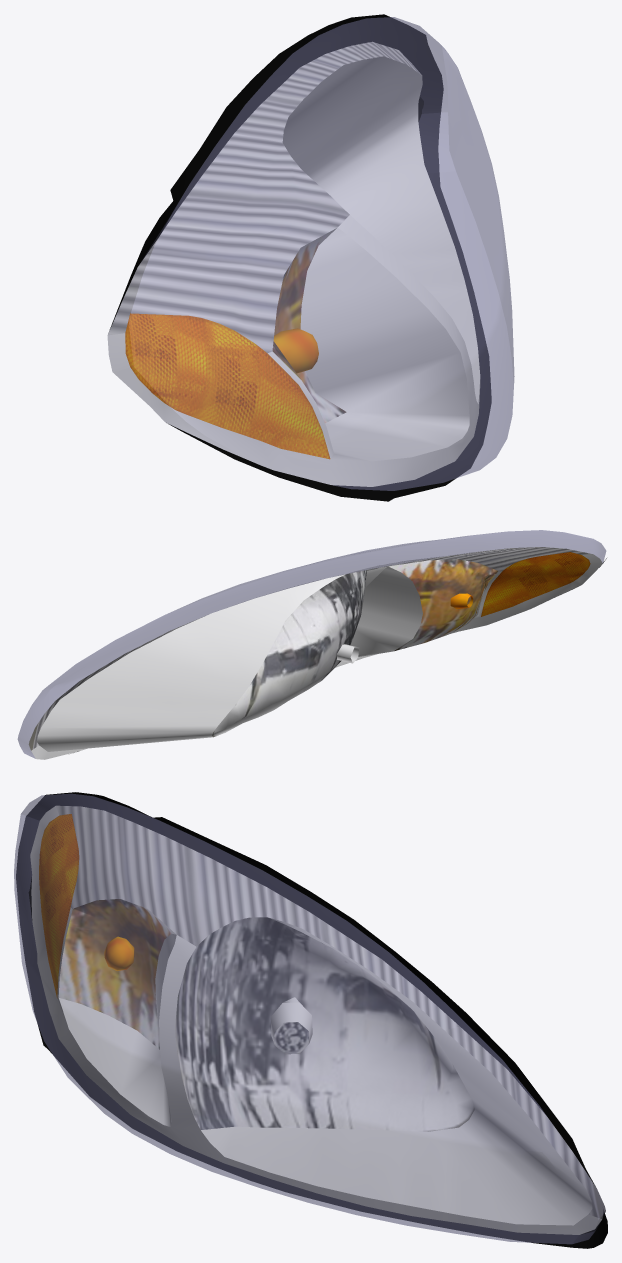
The picture shows the model from 3 angles, top to bottom: view 1: azimuth 30°, elevation 25°; view 2: azimuth 150°, elevation 25°; view 3: azimuth 270°, elevation 25°; orthographic projection. The views are drawn at different scales.
Visible parts, largest first — view 1: P353_20_061B_R_P353_20_061B_R_1_DTaSI, P353_20_061B_R_2_N_P353_20_061B_R, P353_20_061B_R_P353_20_061B_R_3_D; view 2: P353_20_061B_R_2_N_P353_20_061B_R, P353_20_061B_R_P353_20_061B_R_1_DTaSI; view 3: P353_20_061B_R_P353_20_061B_R_1_DTaSI, P353_20_061B_R_2_N_P353_20_061B_R, P353_20_061B_R_P353_20_061B_R_3_D.
Boxes of the visible parts, x1,y1,x2,y2 form: P353_20_061B_R_P353_20_061B_R_1_DTaSI: [107, 17, 514, 490]; P353_20_061B_R_2_N_P353_20_061B_R: [107, 42, 480, 486]; P353_20_061B_R_P353_20_061B_R_3_D: [109, 14, 491, 501]; P353_20_061B_R_2_N_P353_20_061B_R: [28, 547, 602, 759]; P353_20_061B_R_P353_20_061B_R_1_DTaSI: [17, 530, 606, 758]; P353_20_061B_R_P353_20_061B_R_1_DTaSI: [14, 793, 605, 1244]; P353_20_061B_R_2_N_P353_20_061B_R: [30, 805, 605, 1234]; P353_20_061B_R_P353_20_061B_R_3_D: [16, 792, 607, 1248].
Bounding box in the file's own units: 42.7 × 19.97 × 43.57.
